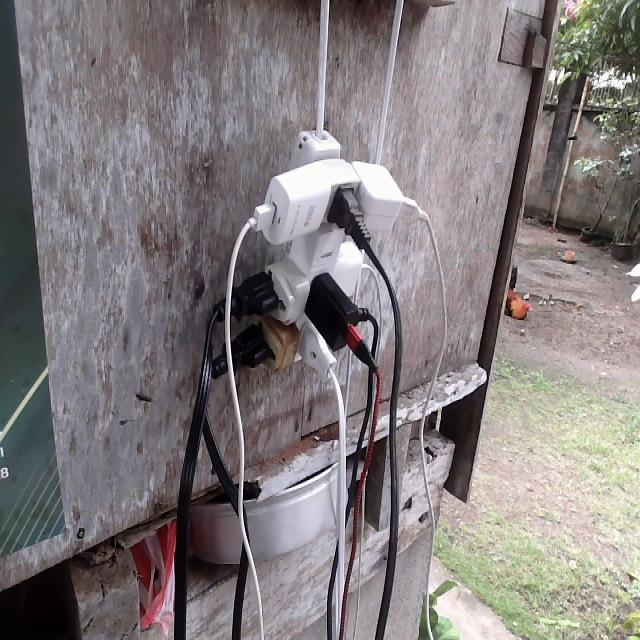-: (195, 116, 436, 419)
